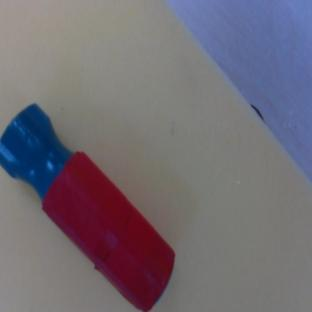part_2_good: (0, 99, 191, 312)
